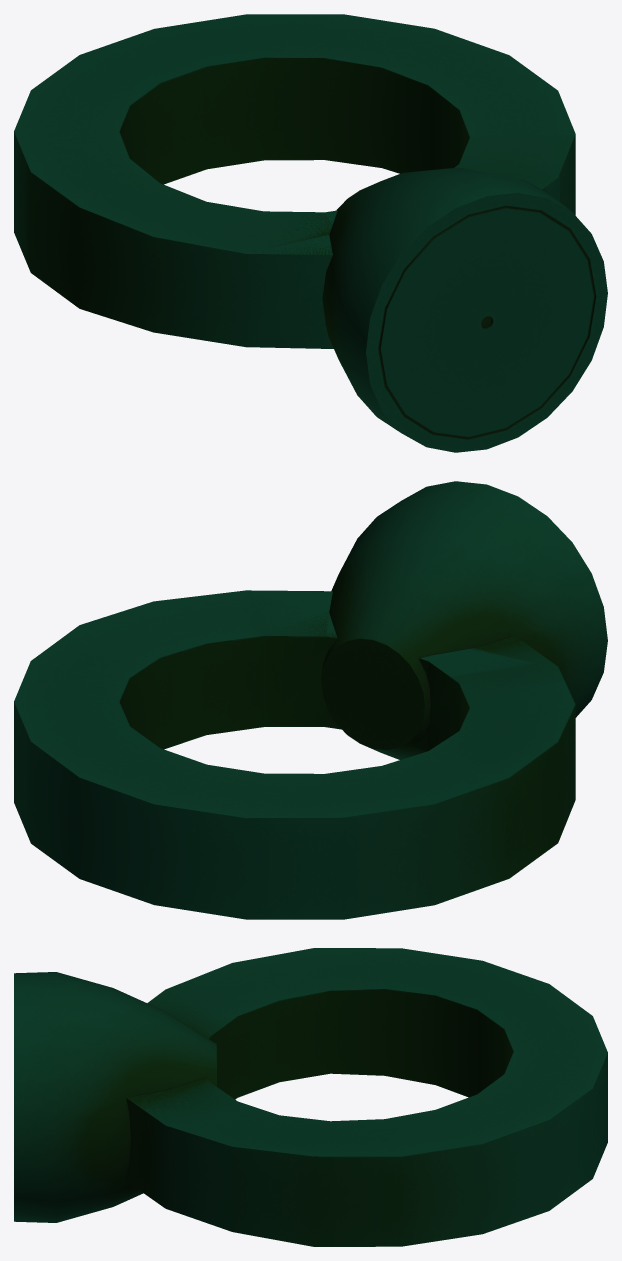
3 views of the same model, one above another, from view 1: azimuth 30°, elevation 25°; view 2: azimuth 150°, elevation 25°; view 3: azimuth 270°, elevation 25° (orthographic). The views are drawn at different scales.
Parts seen in each view (by area): view 1: 209_JieQuan_HanJie, 209_JieQuan_QueKou_002, 209_JieQuan_QueKou_01; view 2: 209_JieQuan_QueKou_002, 209_JieQuan_HanJie, 209_JieQuan_QueKou_01; view 3: 209_JieQuan_HanJie, 209_JieQuan_QueKou_002.
Part boxes in pixels (<box>): 209_JieQuan_HanJie: <box>14,14,607,452</box>; 209_JieQuan_QueKou_002: <box>14,14,575,348</box>; 209_JieQuan_QueKou_01: <box>246,180,557,348</box>; 209_JieQuan_QueKou_002: <box>14,590,575,919</box>; 209_JieQuan_HanJie: <box>14,481,607,918</box>; 209_JieQuan_QueKou_01: <box>250,591,520,726</box>; 209_JieQuan_HanJie: <box>14,948,607,1246</box>; 209_JieQuan_QueKou_002: <box>130,948,607,1156</box>.
Bounding box in the file's own units: 2.36 × 1.21 × 2.85.
Materials: 1 (1 with a texture image).
